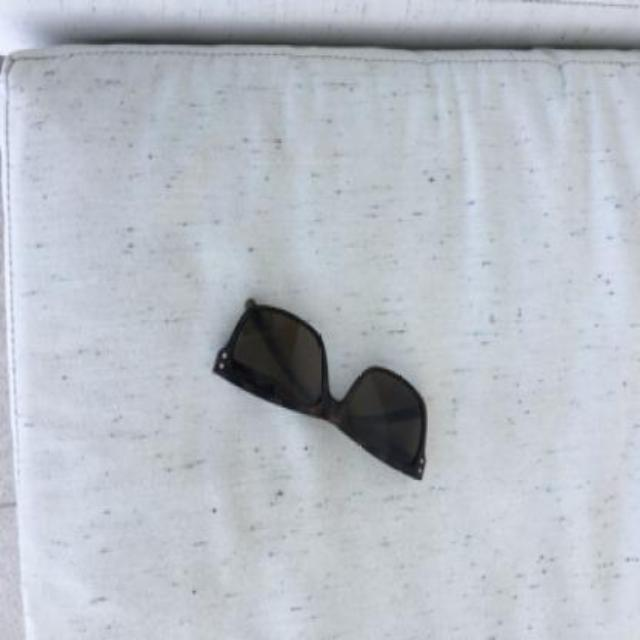sunglasses: (210, 296, 426, 480)
